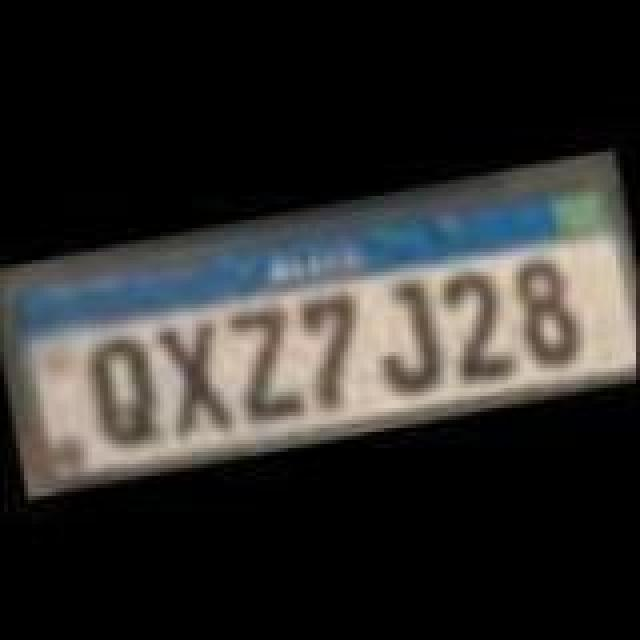2: (432, 258, 516, 386)
7: (292, 286, 372, 418)
8: (500, 246, 584, 370)
J: (364, 268, 448, 396)
Q: (78, 324, 162, 448)
X: (152, 308, 240, 436)
Z: (226, 292, 310, 424)
